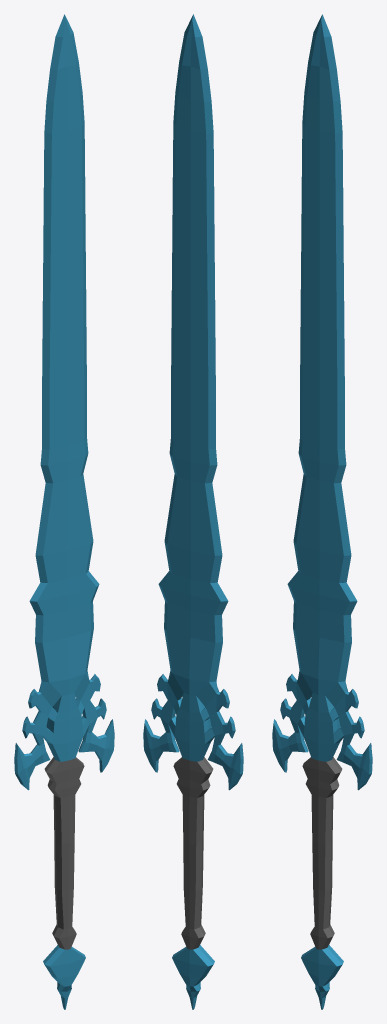
Rendered from Crystall Sword.fbx.
The picture shows the model from 3 angles, left to right: view 1: azimuth 30°, elevation 25°; view 2: azimuth 150°, elevation 25°; view 3: azimuth 330°, elevation 25°; orthographic projection.
Parts seen in each view (by area): view 1: Cube; view 2: Cube; view 3: Cube.
Part boxes in pixels (x1,y1,x2,y2): Cube: (14, 14, 114, 1009); Cube: (143, 14, 243, 1009); Cube: (272, 14, 372, 1009).
Bounding box in the file's own units: 123 × 1166 × 18.39.
